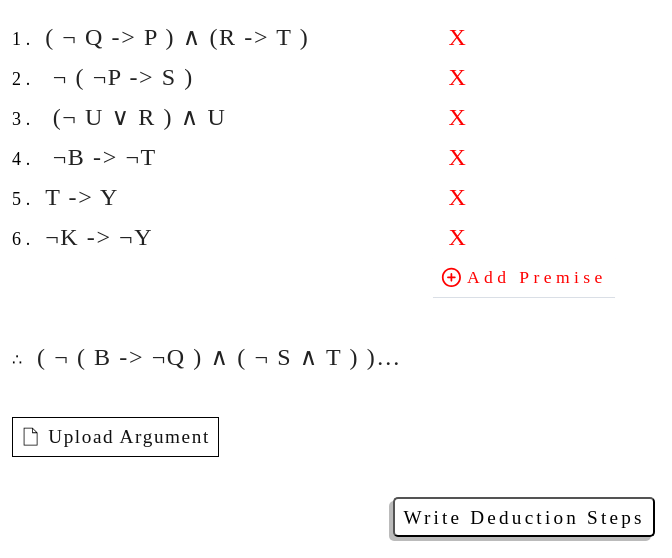
Test: Symbolic Logic Input Form › checks that focusing on an input displays the operator list
Click the field labelled "1." at (235, 37), box [35, 17, 435, 57]
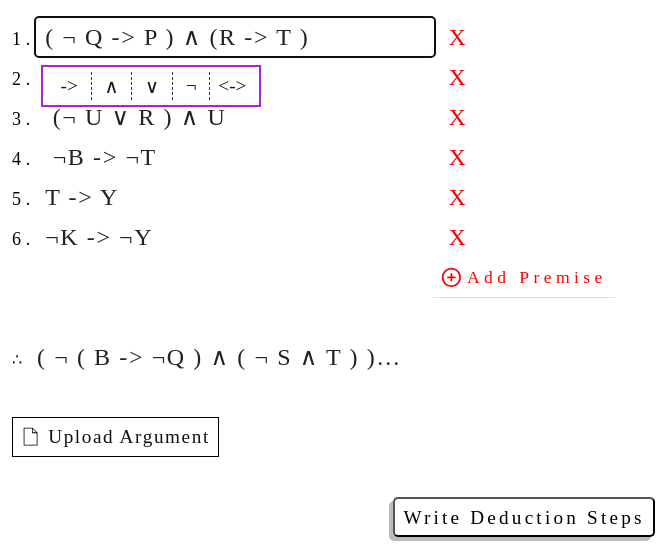
Expected: the button named "add or operator" is shown, [132, 72, 173, 100]
